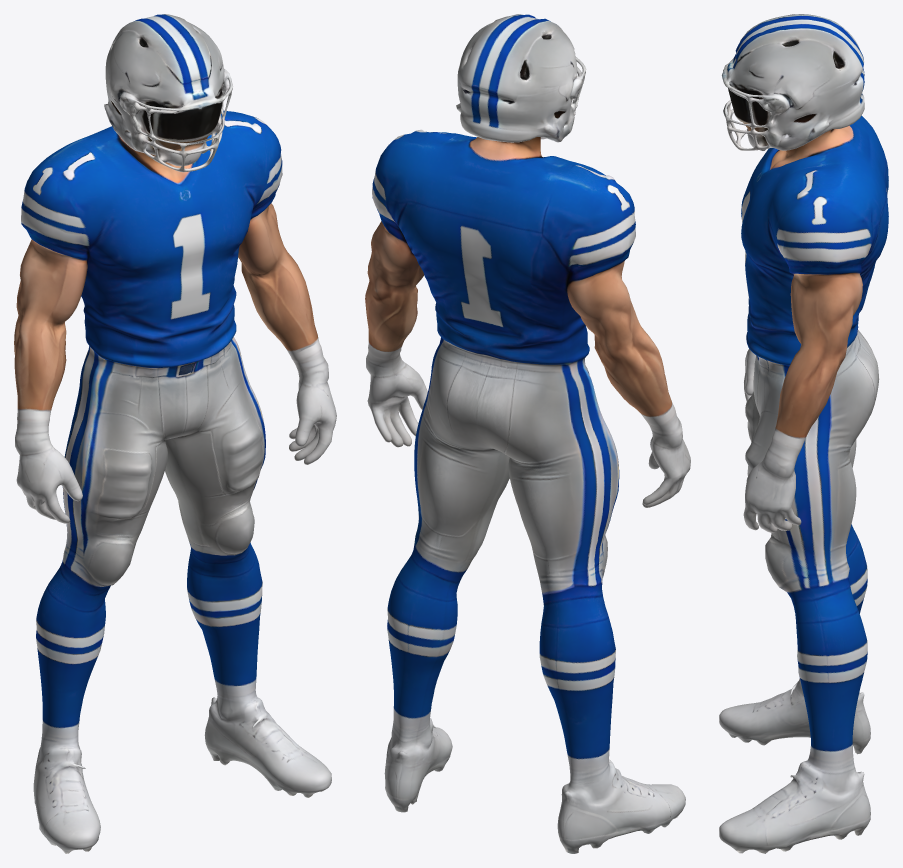
The model's file is player.glb.
3 renders of one model, left to right at view 1: azimuth 30°, elevation 25°; view 2: azimuth 150°, elevation 25°; view 3: azimuth 270°, elevation 25°, orthographic.
Parts seen in each view (by area): view 1: model; view 2: model; view 3: model.
Boxes of the visible parts, box(x1,y1,x2,y2) form: model: box(14, 14, 336, 853); model: box(365, 14, 690, 853); model: box(719, 14, 888, 853).
Bounding box in the file's own units: 0.7938 × 1.9 × 0.3782.
1 material, 1 textured.
